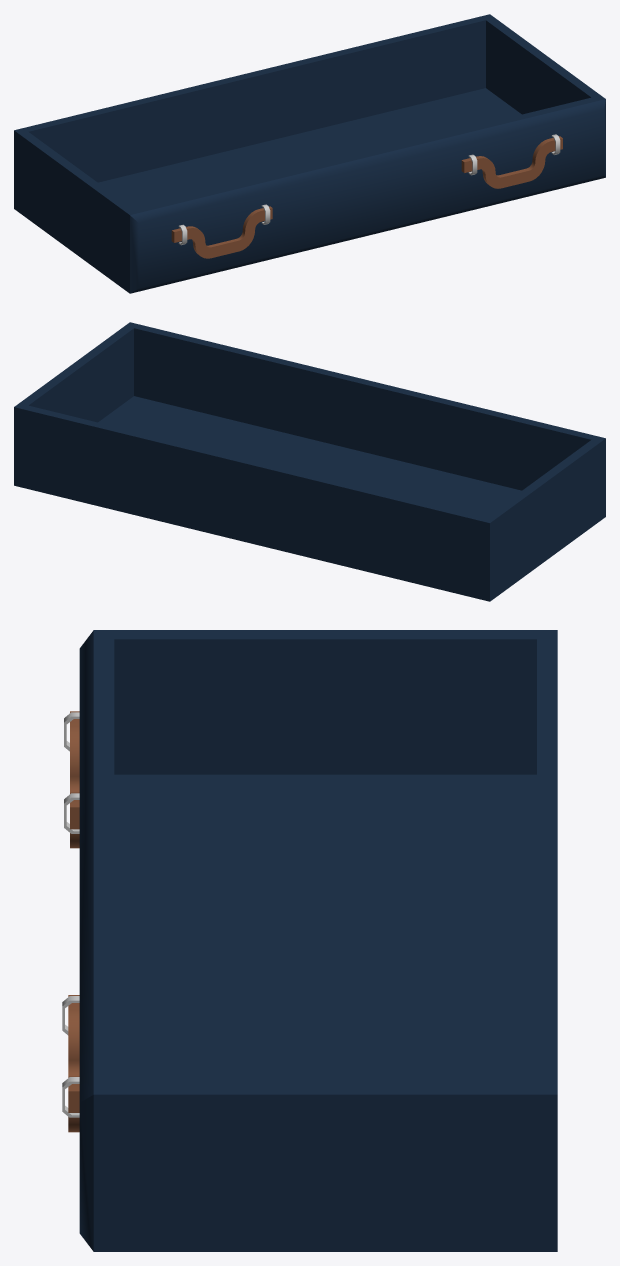
The model's file is cajon.fbx.
3 renders of one model, top to bottom at view 1: azimuth 30°, elevation 25°; view 2: azimuth 150°, elevation 25°; view 3: azimuth 270°, elevation 25°, orthographic. The views are drawn at different scales.
Parts seen in each view (by area): view 1: Cajon1.005, Tirador.011, Tirador.010; view 2: Cajon1.005; view 3: Cajon1.005, Tirador.011, Tirador.010.
Part boxes in pixels (x1=…): Cajon1.005: x1=14, y1=14, x2=605, y2=293; Tirador.011: x1=461, y1=134, x2=562, y2=188; Tirador.010: x1=171, y1=204, x2=272, y2=258; Cajon1.005: x1=14, y1=322, x2=605, y2=601; Cajon1.005: x1=79, y1=630, x2=557, y2=1251; Tirador.011: x1=62, y1=995, x2=79, y2=1132; Tirador.010: x1=64, y1=711, x2=79, y2=848.
Size of the model in its own units: 109 by 17.25 by 49.29.
